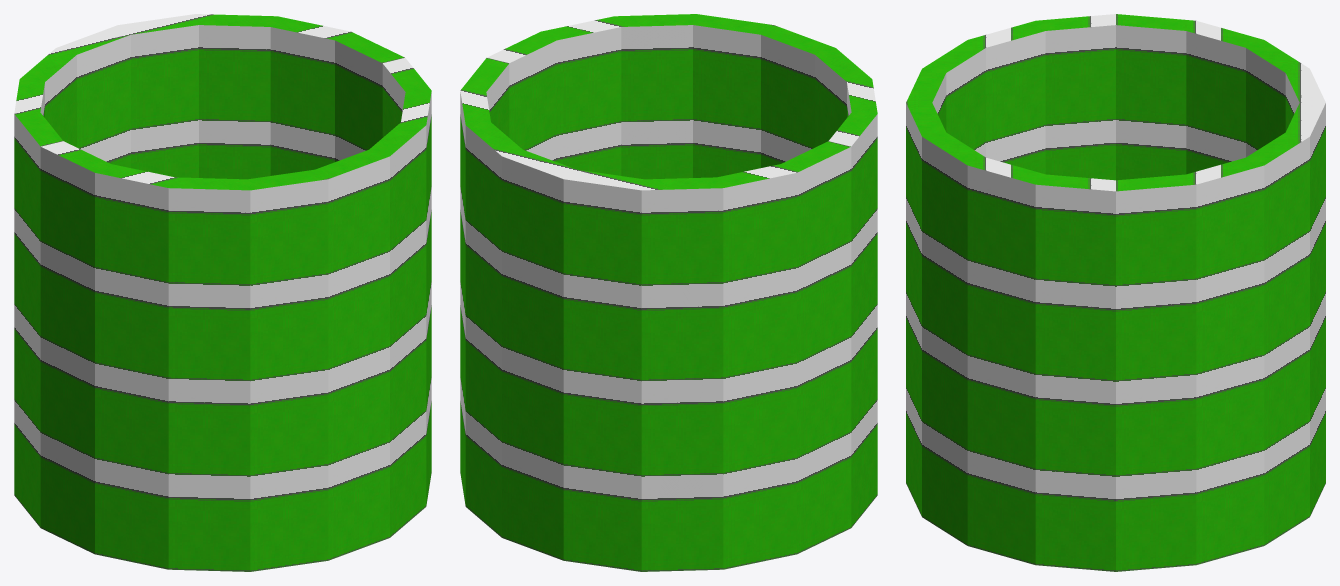
File: pipe.dae
The picture shows the model from 3 angles, left to right: view 1: azimuth 30°, elevation 25°; view 2: azimuth 150°, elevation 25°; view 3: azimuth 270°, elevation 25°; orthographic projection.
Visible parts, largest first — view 1: pipe; view 2: pipe; view 3: pipe.
Part boxes in pixels (left/top/right/bottom): pipe: left=14, top=14, right=431, bottom=571; pipe: left=460, top=14, right=877, bottom=571; pipe: left=906, top=14, right=1325, bottom=571.
Bounding box in the file's own units: 4 × 4 × 4.
